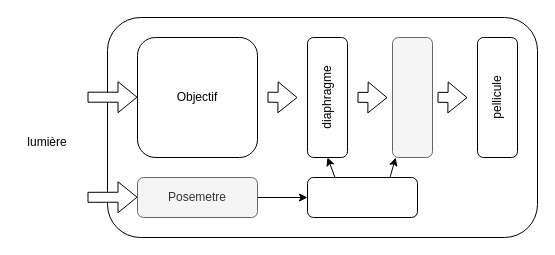
Image size: 555x255. Some labels were removed from this diagram. The centre of each missing label's shape, as x and y in pixels:
Controle: pixel 362 197
obturateur: pixel 412 97
